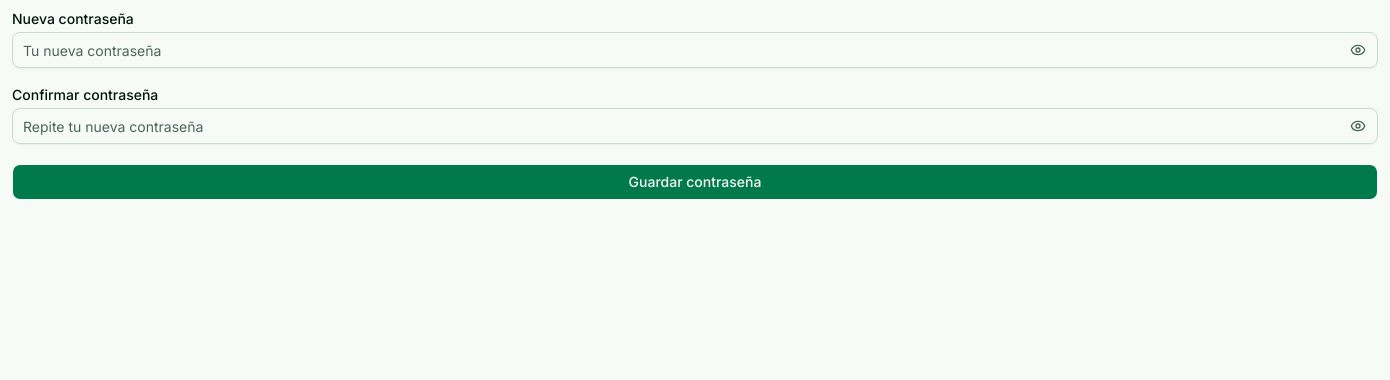
Test case: ResetPasswordForm › shows a match message when confirm password equals the password
Type "Correcta1!" into the password field labelled "Nueva contraseña" at (695, 50), box [12,32,1378,68]
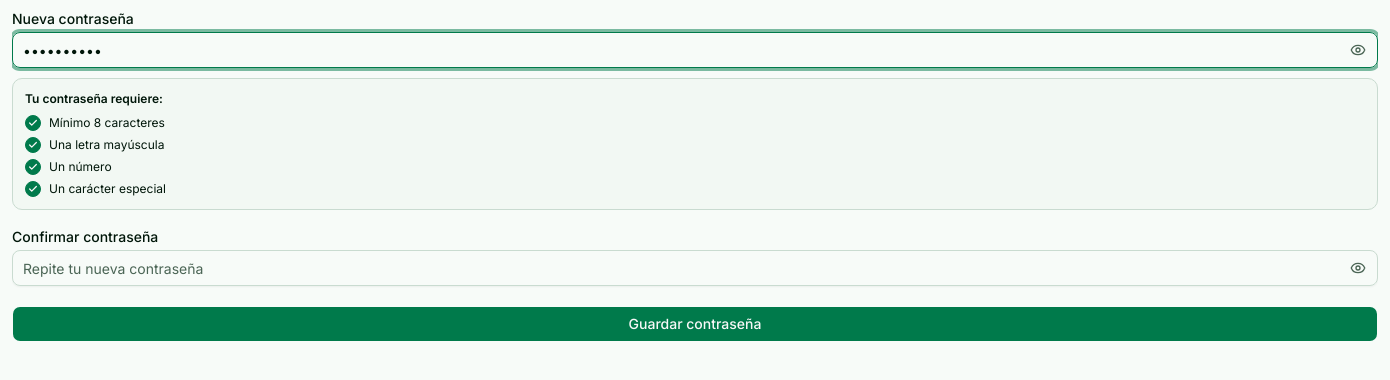
Type "Correcta1!" into the password field labelled "Confirmar contraseña" at (695, 268), box [12,250,1378,286]
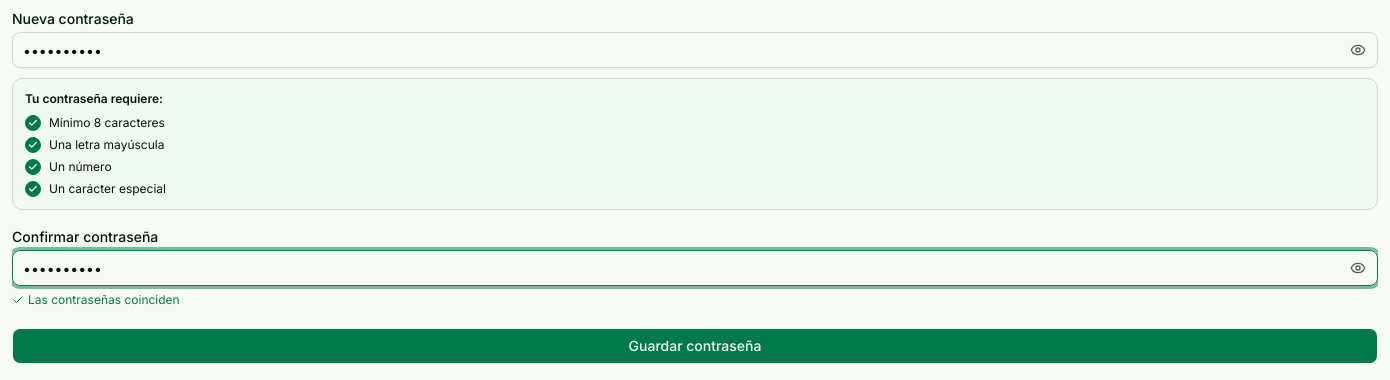
Check: the text "Las contraseñas coinciden" is shown, box [12,292,180,307]
